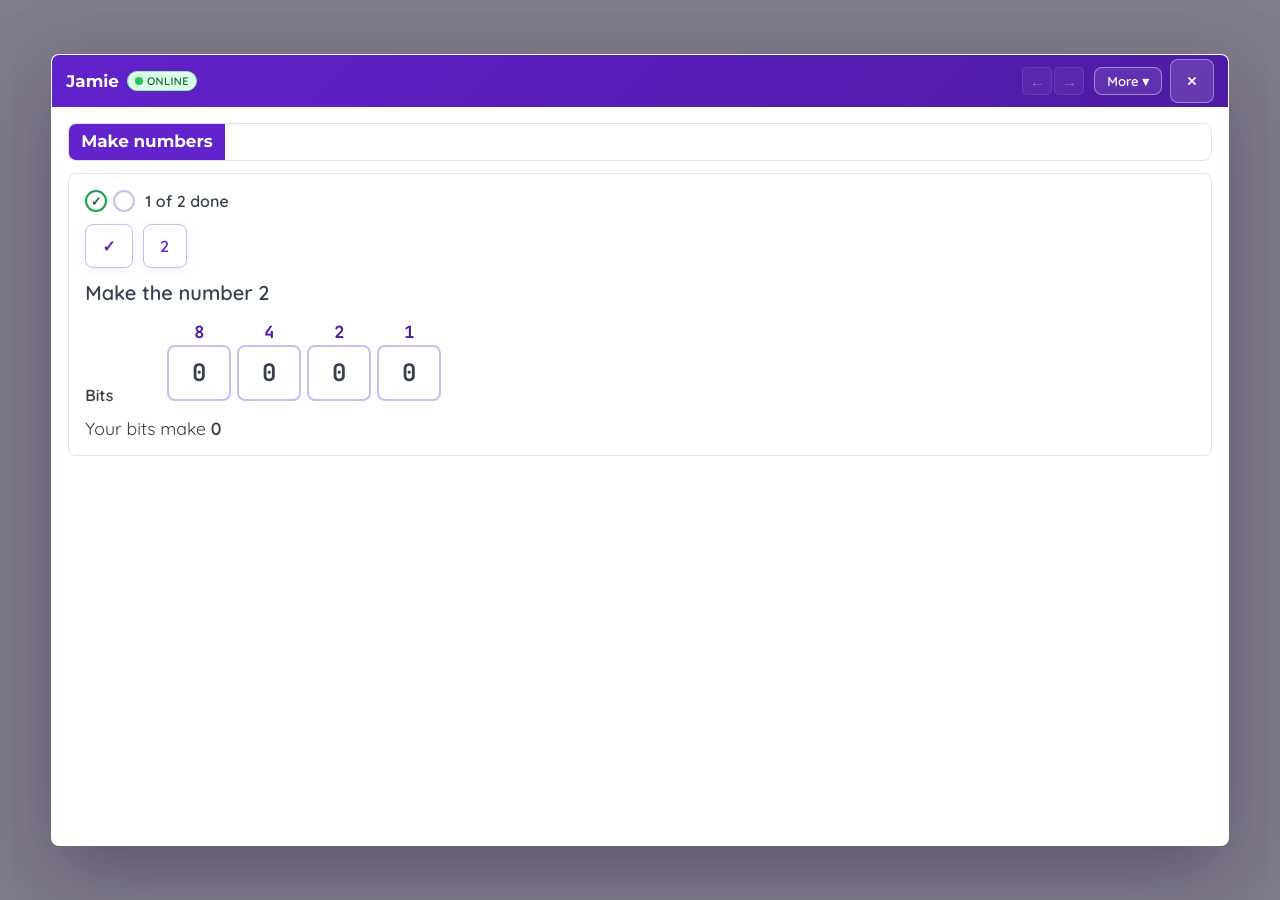
StudentModal on an activity task › shows the student's activity read-only, without code tools or student Go Live
The width and height of the screenshot is (1280, 900).
Click the button named "Item 1, done".
click(109, 246)  # box [85,224,133,268]
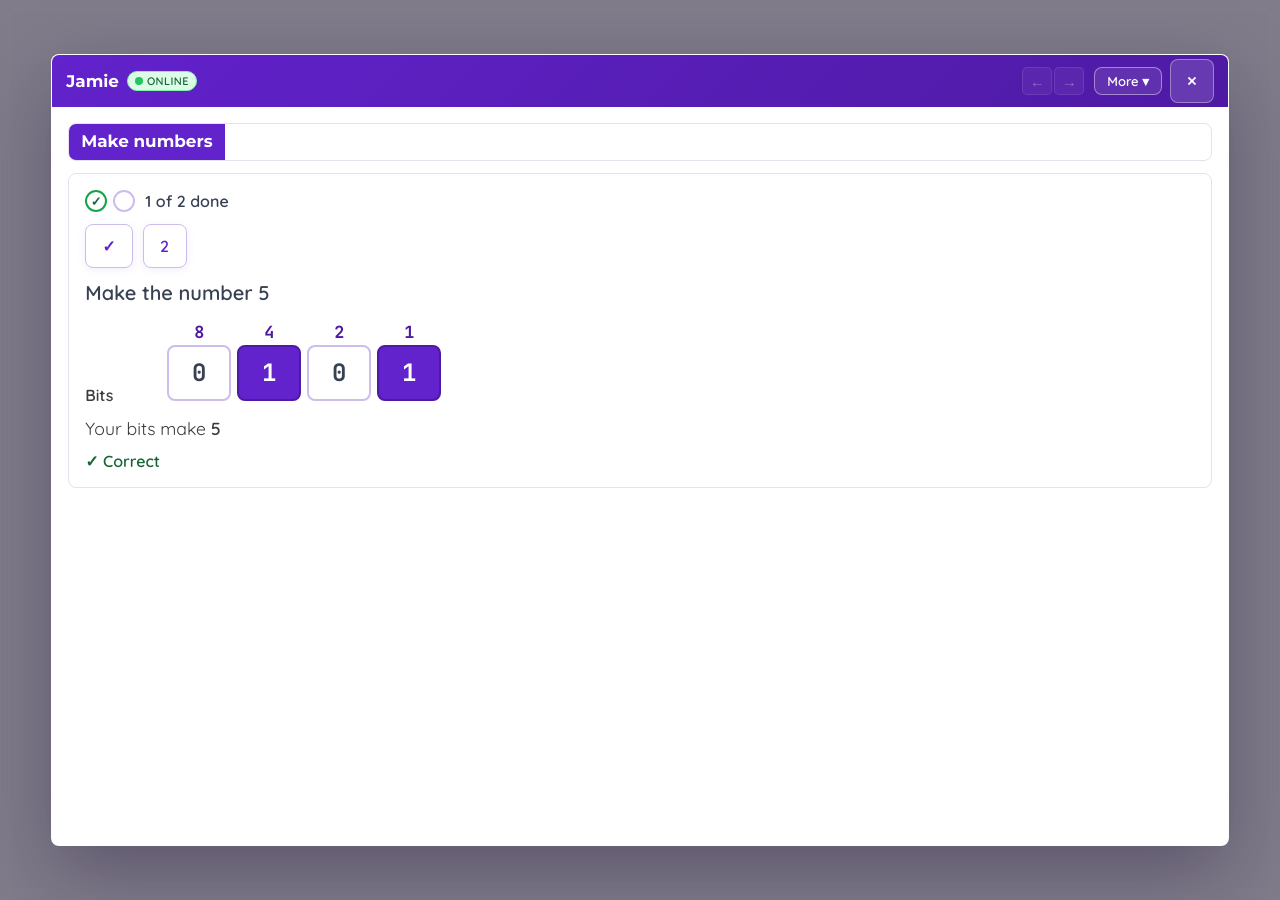
Check: the switch named "Bits 4 column" is disabled, box [237,345,301,401]
Check: the switch named "Bits 4 column" is checked, box [237,345,301,401]
Click the button "More ▾".
click(1128, 81)  # box [1094,67,1162,95]
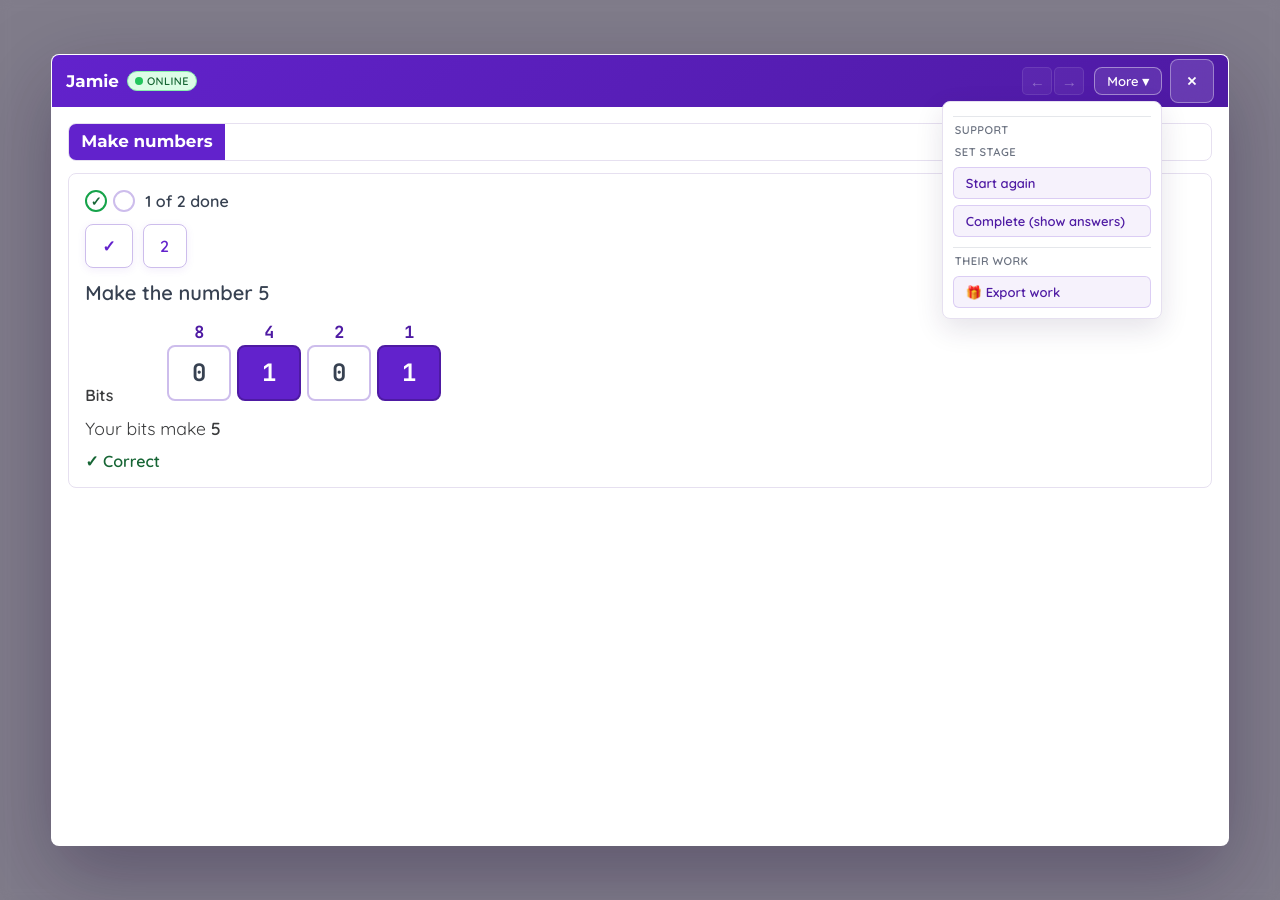
Check: the element "Support" is shown, box [953,112,1151,237]
